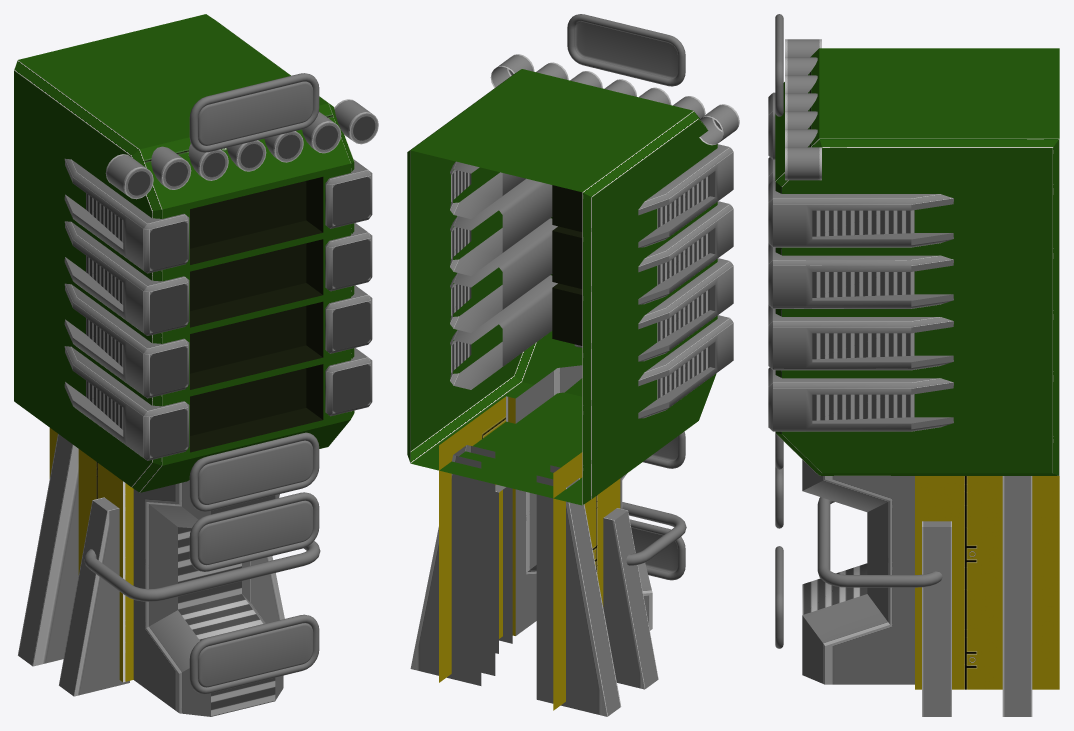
File: menumachineA.fbx
The picture shows the model from 3 angles, left to right: view 1: azimuth 30°, elevation 25°; view 2: azimuth 150°, elevation 25°; view 3: azimuth 270°, elevation 25°; orthographic projection. The views are drawn at different scales.
Visible parts, largest first — view 1: menumachine1; view 2: menumachine1; view 3: menumachine1.
Part boxes in pixels (x1,y1,x2,y2): menumachine1: (14, 14, 378, 716); menumachine1: (407, 14, 739, 716); menumachine1: (768, 14, 1059, 716).
Bounding box in the file's own units: 74.72 × 179 × 75.39.
